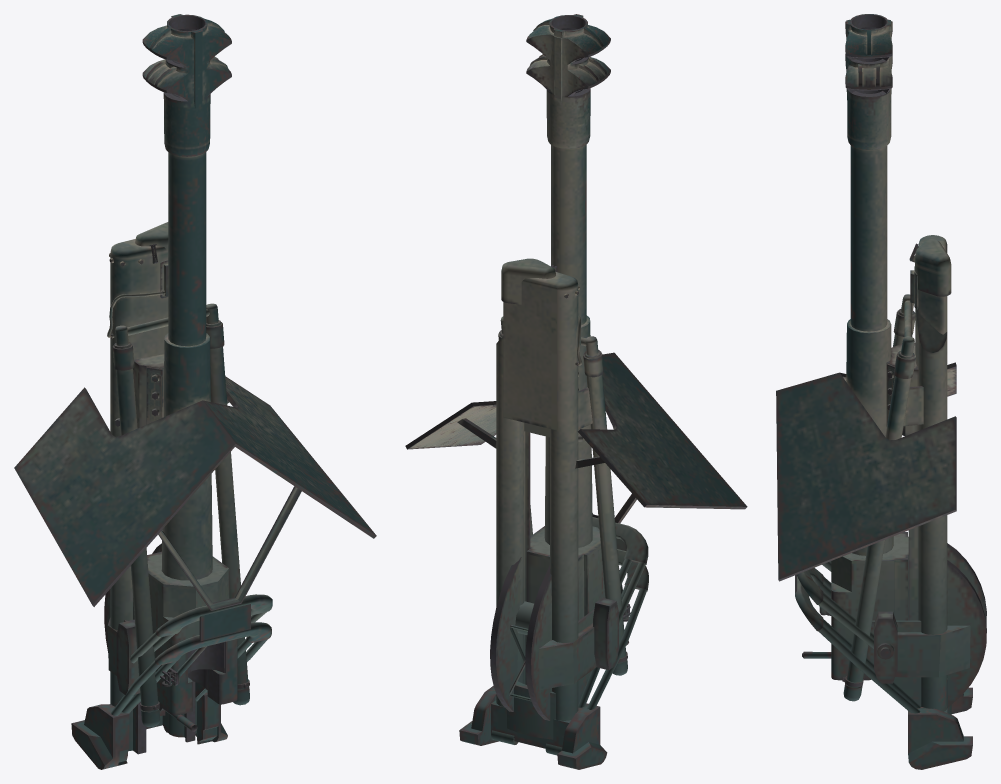
Rendered from Gun_02.glb.
3 views of the same model, side by side, from view 1: azimuth 30°, elevation 25°; view 2: azimuth 150°, elevation 25°; view 3: azimuth 270°, elevation 25° (orthographic). The views are drawn at different scales.
Visible parts, largest first — view 1: set_0_group_0; view 2: set_0_group_0; view 3: set_0_group_0.
Part boxes in pixels (x1,y1,x2,y2): set_0_group_0: (14, 14, 376, 769); set_0_group_0: (405, 14, 747, 769); set_0_group_0: (776, 14, 986, 769).
Size of the model in its own units: 1.19 by 3 by 0.796.
Materials: 1 (1 with a texture image).
